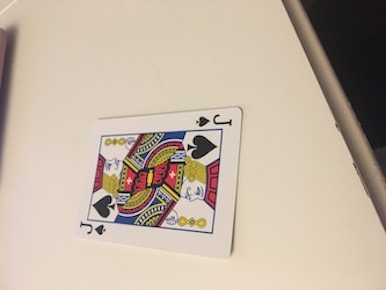JackOfSpades: (73, 104, 264, 262)
